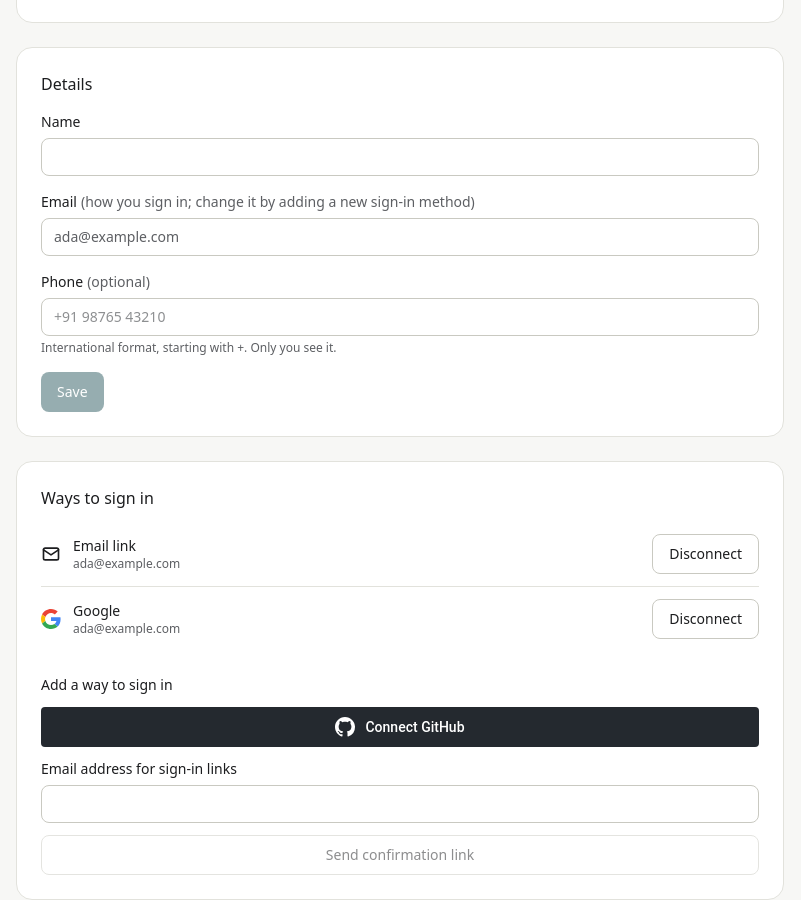
Test: account › disconnects one of two and shows a refusal from the server
(page scrolled)
Click the button with aria-label "Disconnect Google" at (706, 619), box [652,599,759,639]
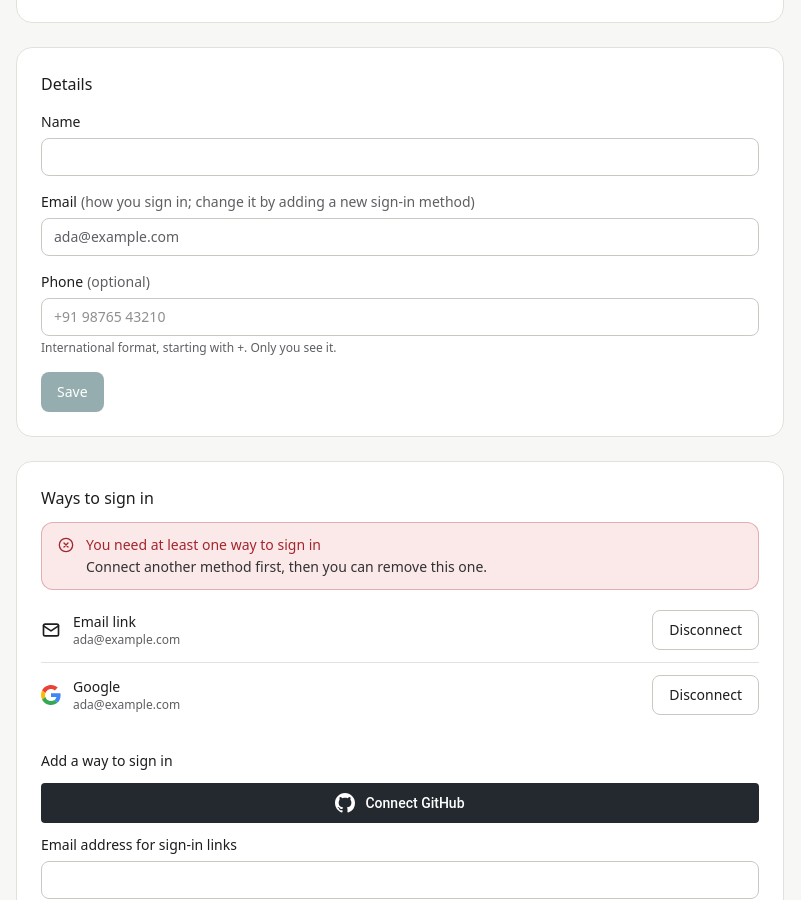
Check: the message shows "You need at least one way to sign in", box [86,535,321,554]
